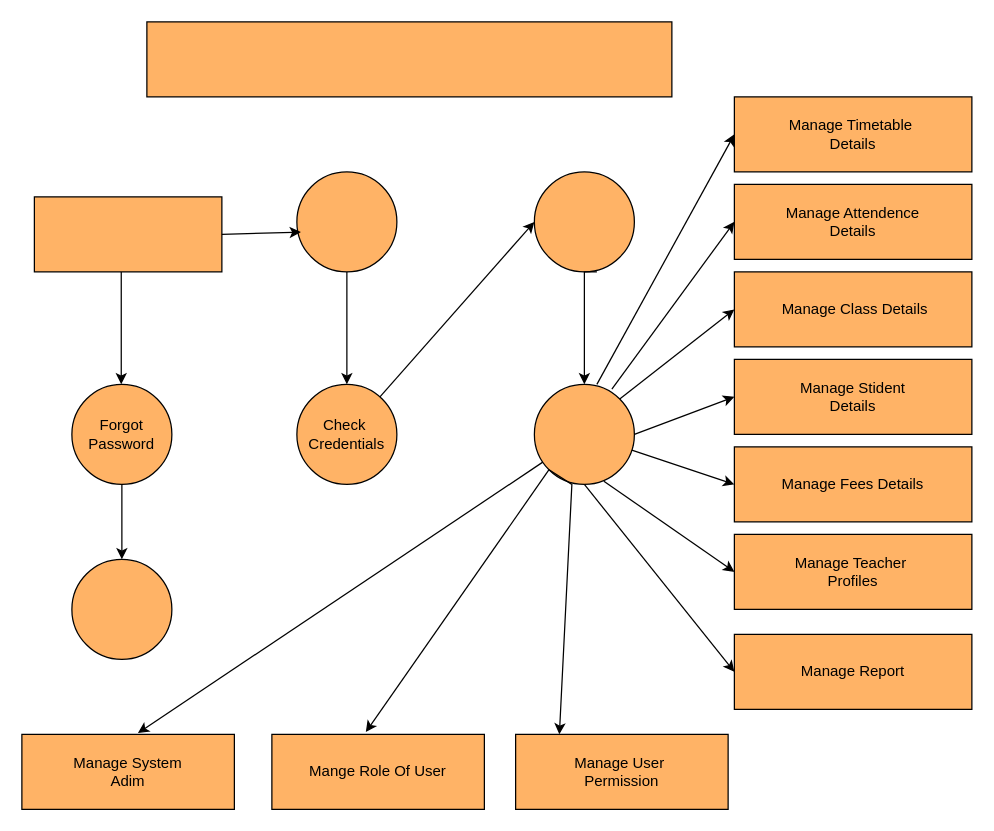
Some shapes in this 994 by 831 pixel diagram are drawn without their labels. Here are the shapes that lost their labels. From the top down, the box of each, then its label:
(146, 21, 672, 97): Student Information System
(33, 196, 222, 272): Adim
(296, 171, 397, 272): Login to System
(533, 171, 634, 272): Check Roles of Access
(533, 383, 634, 484): Manage Modules
(71, 558, 172, 659): Send Email to User
